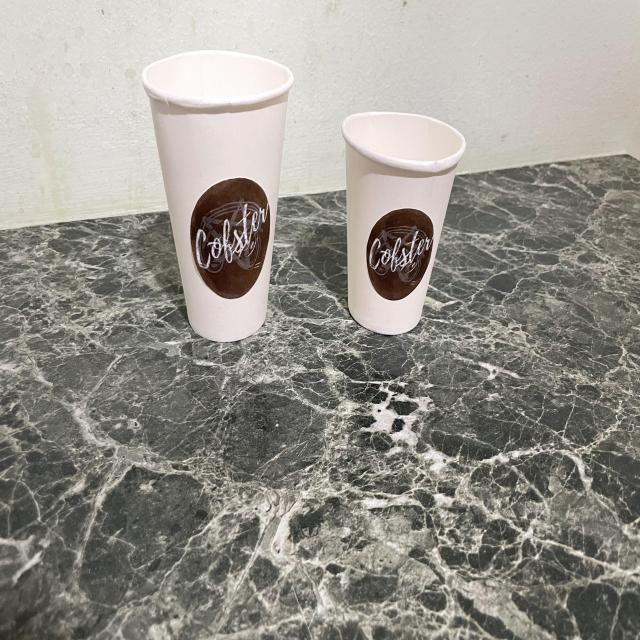cup: (126, 36, 306, 344), (332, 100, 469, 338)
